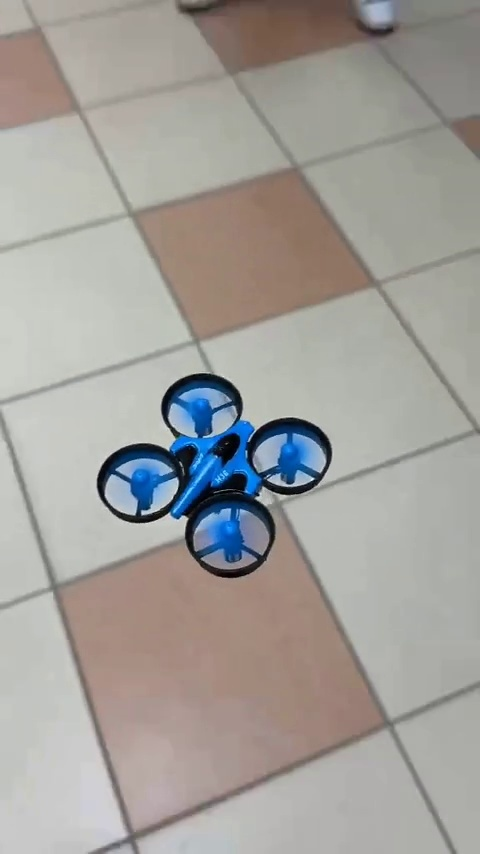drone: (89, 375, 331, 569)
